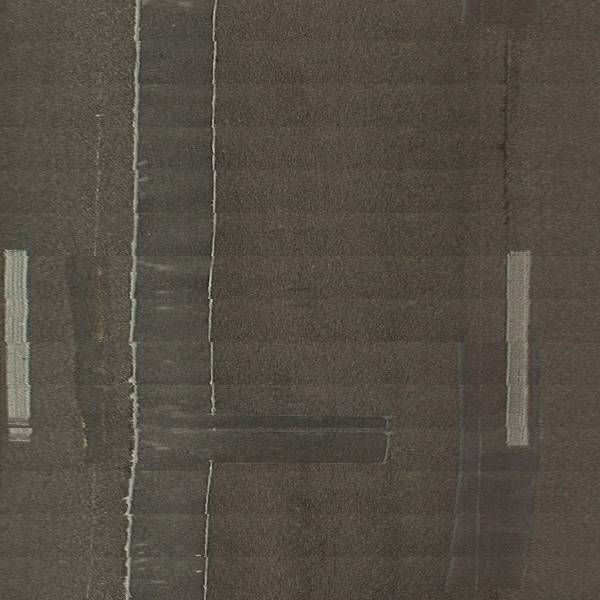road_damage: (128, 1, 221, 600), (199, 410, 401, 468), (446, 336, 474, 600), (497, 35, 519, 237)
